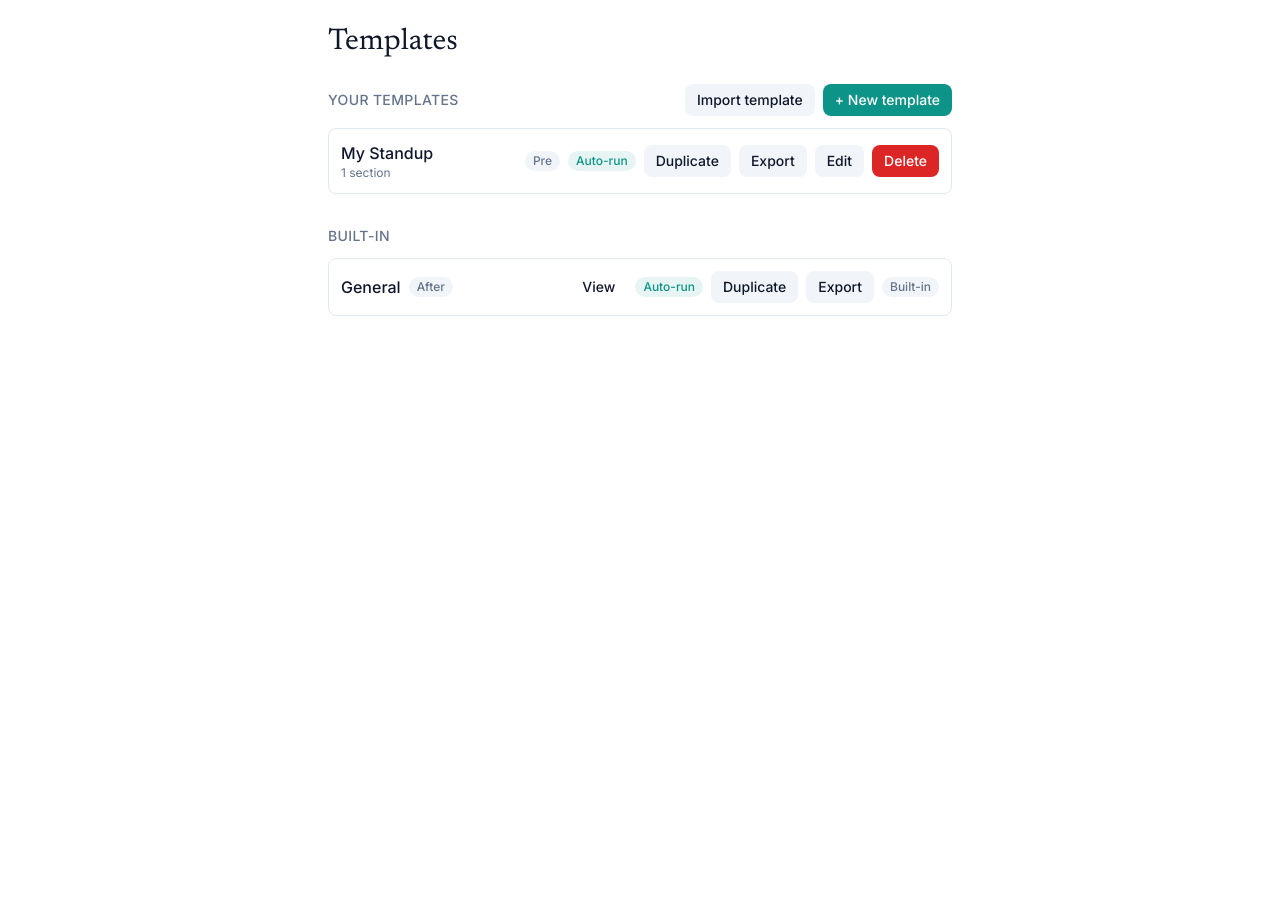
TemplatesScreen › opens a read-only preview of a built-in template's sections
The width and height of the screenshot is (1280, 900).
What coordinates should you click on to do the following:
click the button with aria-label "View General sections"
I would click on:
 (599, 287)
Its box is [570, 271, 627, 303].
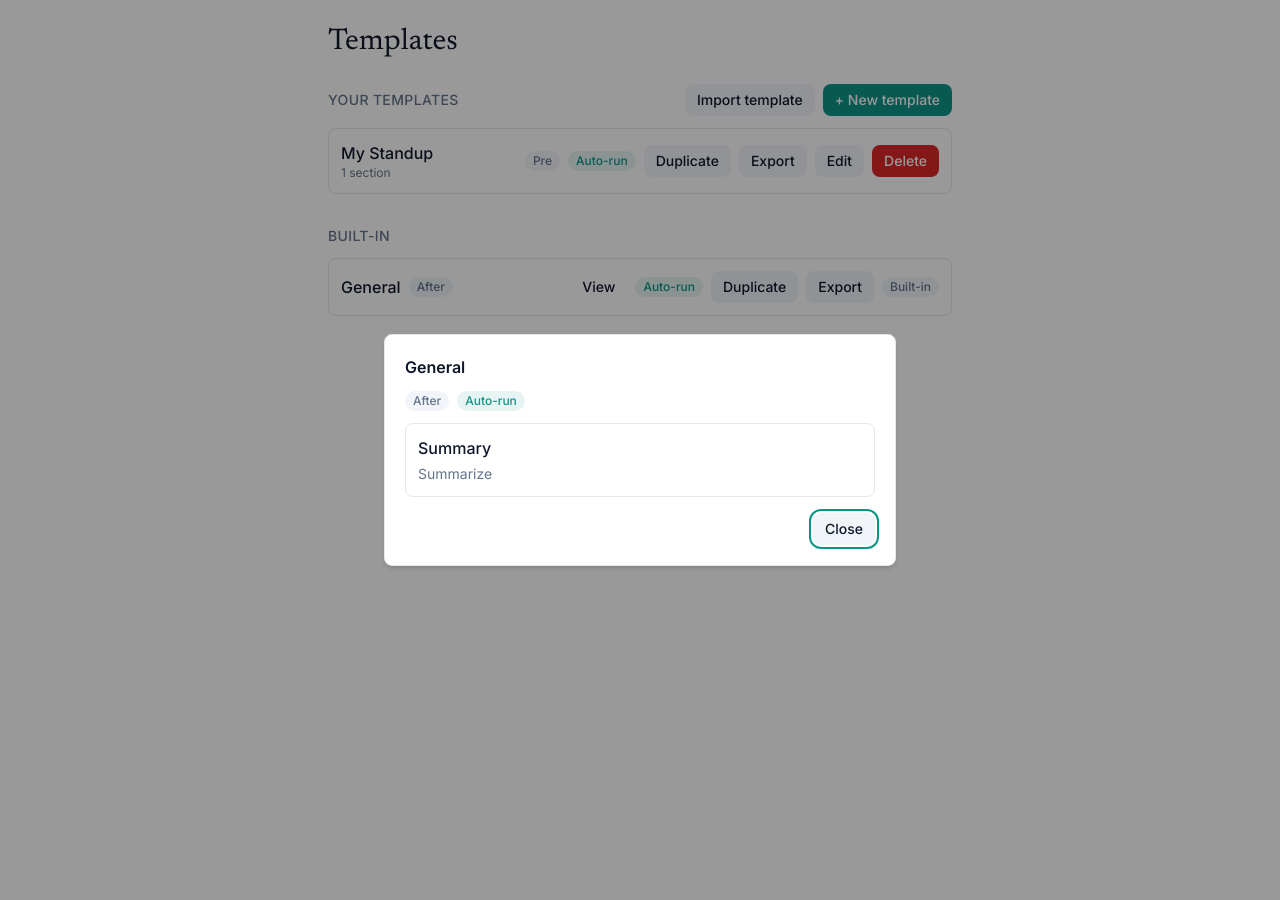
Now the text "Summary" is shown, box [418, 438, 491, 458]
Now the text "Summarize" is shown, box [418, 465, 492, 482]
